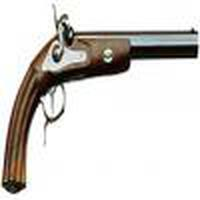gun: (4, 23, 200, 178)
